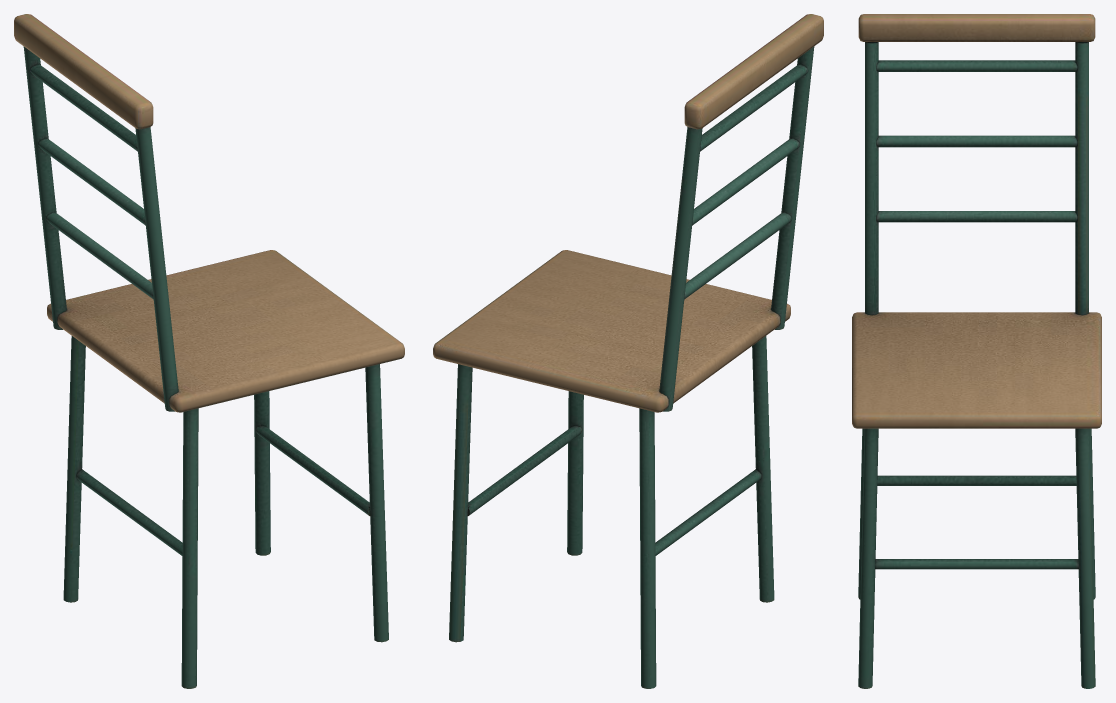
The model's file is cafe_chair.glb.
3 renders of one model, left to right at view 1: azimuth 30°, elevation 25°; view 2: azimuth 150°, elevation 25°; view 3: azimuth 270°, elevation 25°, orthographic. The views are drawn at different scales.
Visible parts, largest first — view 1: back_bar0.62; view 2: back_bar0.62; view 3: back_bar0.62.
Part boxes in pixels (x1,y1,x2,y2): back_bar0.62: (14, 14, 404, 688); back_bar0.62: (433, 14, 823, 688); back_bar0.62: (852, 14, 1101, 688).
Size of the model in its own units: 0.44 by 0.9403 by 0.38.
1 material, 1 textured.
